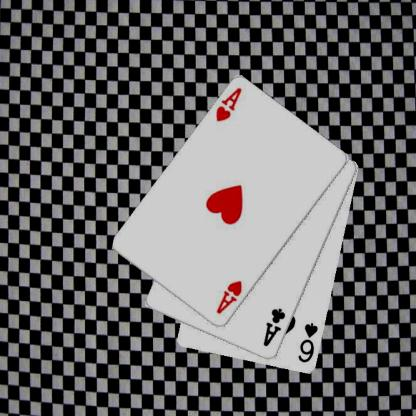6S: (296, 321, 319, 364)
AC: (260, 306, 286, 348)
AH: (213, 85, 243, 124), (214, 278, 244, 315)
